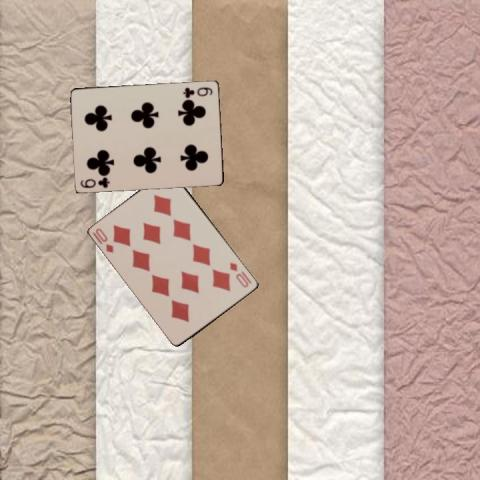10d: (227, 259, 253, 289), (90, 225, 115, 255)
6c: (77, 174, 112, 189), (180, 84, 214, 98)
